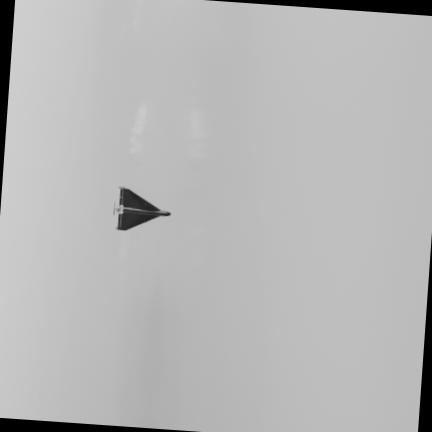Shahed: (115, 186, 169, 228)
